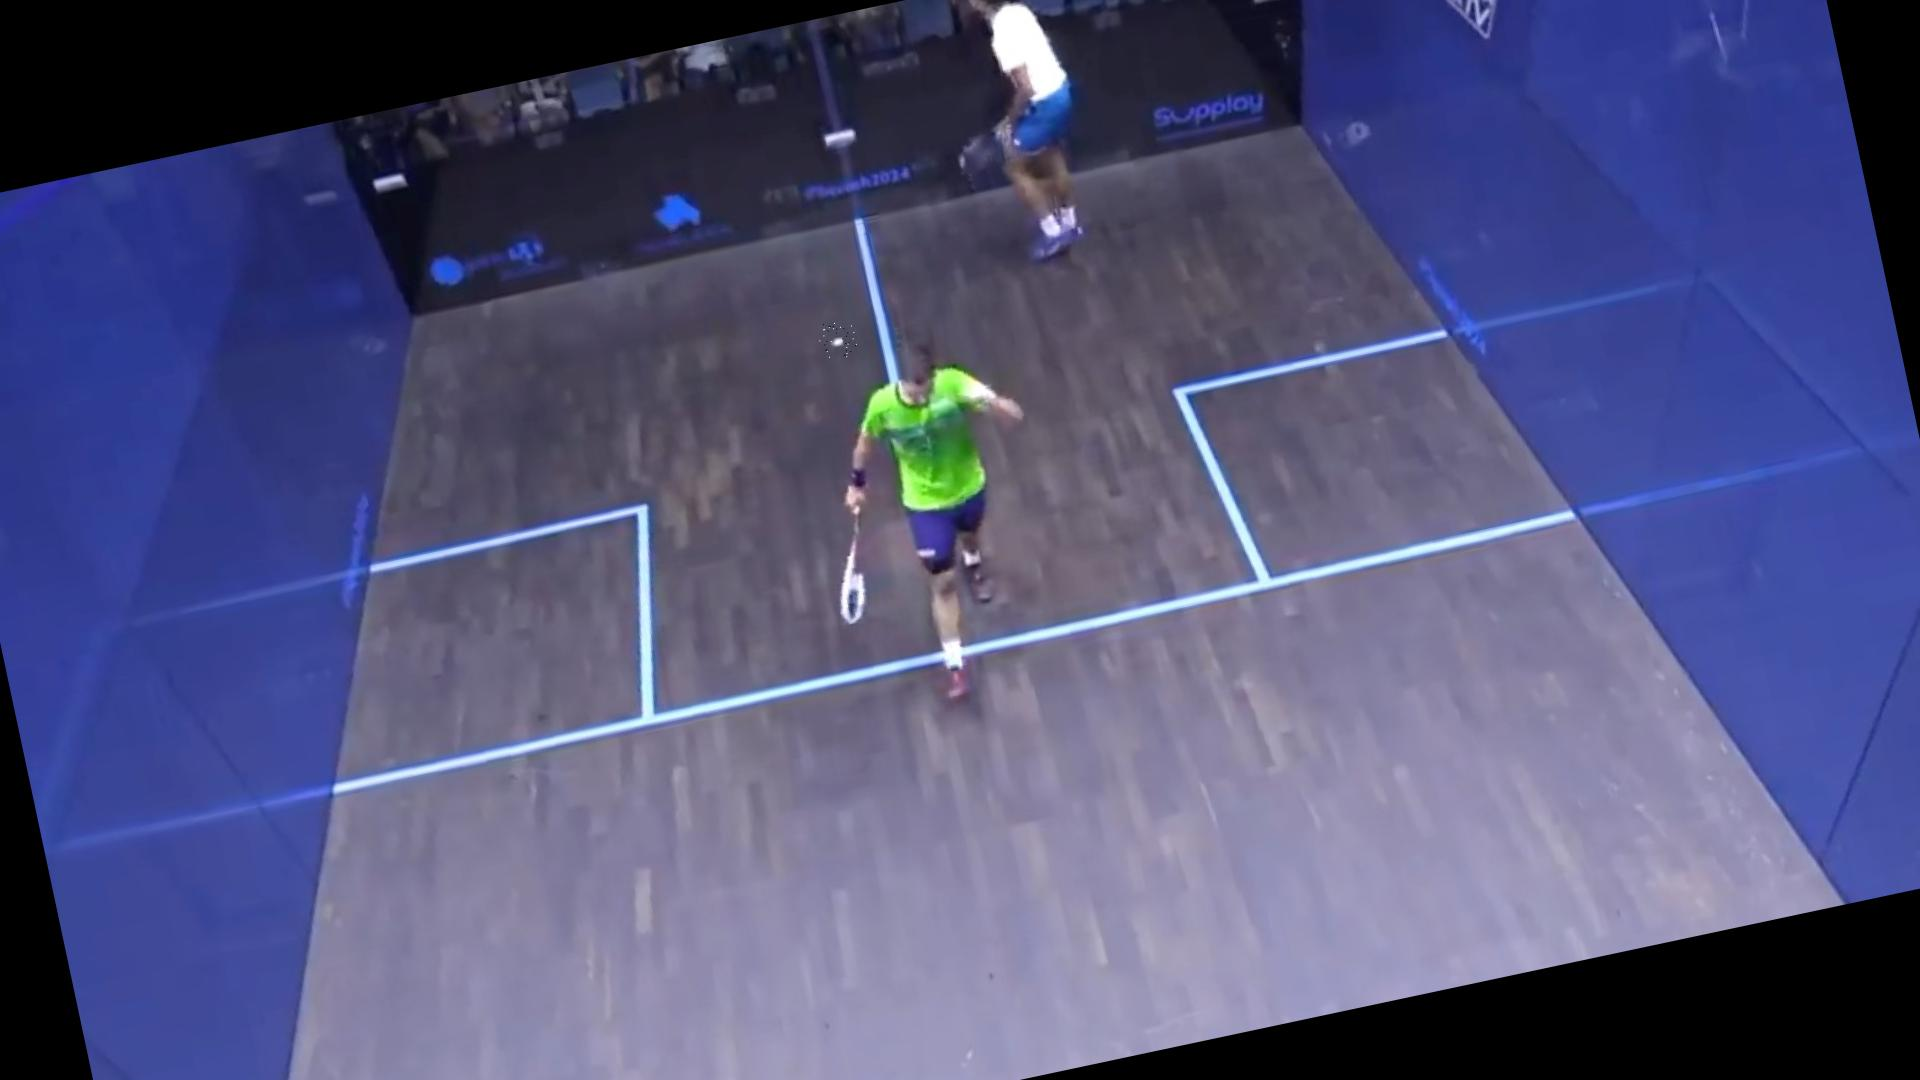Squash-Ball: (815, 318, 858, 361)
